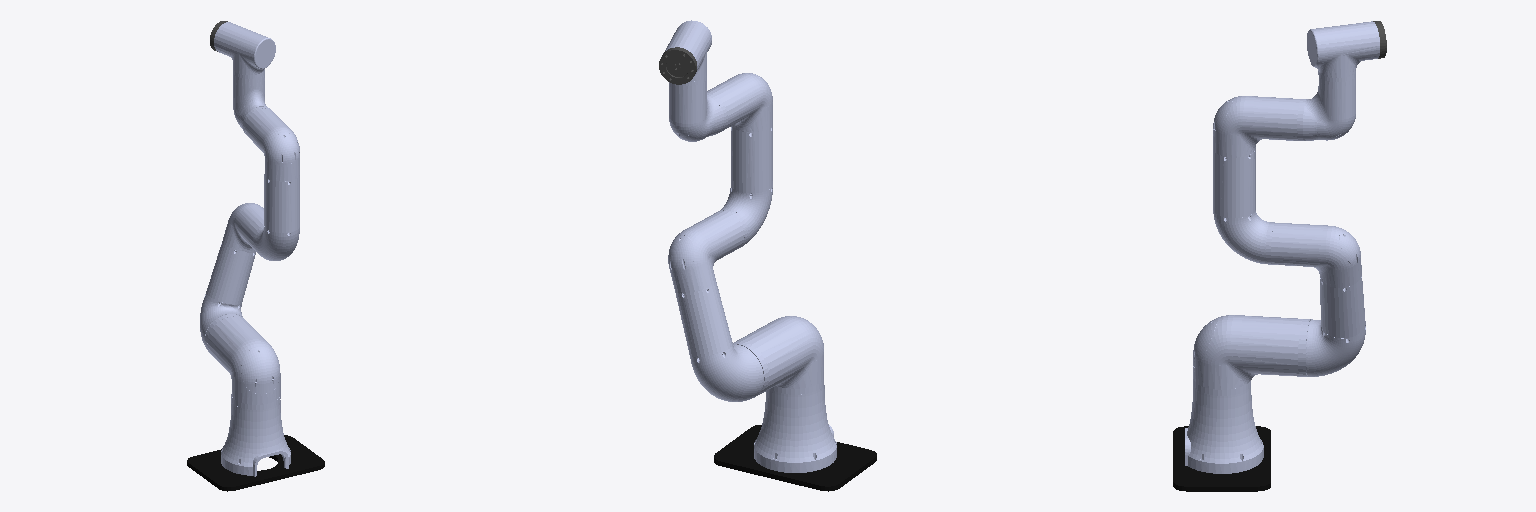
URDF robot description (robot):
<?xml version="1.0" encoding="utf-8"?>
<!-- This URDF was automatically created by SolidWorks to URDF Exporter! Originally created by [author] ([email redacted]) 
     Commit Version: 1.5.1-0-g916b5db  Build Version: 1.5.7152.31018
     For more information, please see http://wiki.ros.org/sw_urdf_exporter -->
<robot
  name="robot">
  <link
    name="base_link">
    <inertial>
      <origin
        xyz="1.21320825855915E-17 -8.65073877803282E-20 0.006"
        rpy="0 0 0" />
      <mass
        value="0.699812398023691" />
      <inertia
        ixx="0.00319439358076906"
        ixy="-1.05879118406788E-19"
        ixz="-7.74183984731718E-21"
        iyy="0.00687705018768615"
        iyz="9.68378407216369E-19"
        izz="0.0100546482709026" />
    </inertial>
    <visual>
      <origin
        xyz="0 0 0"
        rpy="0 0 0" />
      <geometry>
        <mesh
          filename="package://robot/meshes/base_link.STL" />
      </geometry>
      <material
        name="">
        <color
          rgba="0.0980392156862745 0.0980392156862745 0.0980392156862745 1" />
      </material>
    </visual>
    <collision>
      <origin
        xyz="0 0 0"
        rpy="0 0 0" />
      <geometry>
        <mesh
          filename="package://robot/meshes/base_link.STL" />
      </geometry>
    </collision>
  </link>
  <link
    name="Link_0">
    <inertial>
      <origin
        xyz="1.45774148422336E-06 -0.00427622104434238 0.0788670597889417"
        rpy="0 0 0" />
      <mass
        value="0.88340905364341" />
      <inertia
        ixx="0.0037870391075153"
        ixy="-6.32343925976529E-08"
        ixz="5.11803228852615E-08"
        iyy="0.00407855138323904"
        iyz="-0.000191161132544313"
        izz="0.00446295424659251" />
    </inertial>
    <visual>
      <origin
        xyz="0 0 0"
        rpy="0 0 0" />
      <geometry>
        <mesh
          filename="package://robot/meshes/Link_0.STL" />
      </geometry>
      <material
        name="">
        <color
          rgba="0.792156862745098 0.819607843137255 0.933333333333333 1" />
      </material>
    </visual>
    <collision>
      <origin
        xyz="0 0 0"
        rpy="0 0 0" />
      <geometry>
        <mesh
          filename="package://robot/meshes/Link_0.STL" />
      </geometry>
    </collision>
  </link>
  <joint
    name="Joint_0"
    type="fixed">
    <origin
      xyz="0 0 0.012"
      rpy="0 0 3.1416" />
    <parent
      link="base_link" />
    <child
      link="Link_0" />
    <axis
      xyz="0 0 0" />
  </joint>
  <link
    name="Link_1">
    <inertial>
      <origin
        xyz="6.22184642160937E-05 -0.0650398405116139 0.0829876435373044"
        rpy="0 0 0" />
      <mass
        value="0.597465762898965" />
      <inertia
        ixx="0.00345999864180008"
        ixy="2.11239130676265E-06"
        ixz="-1.08552992986325E-06"
        iyy="0.0024416733218569"
        iyz="0.0005220262651637"
        izz="0.00326944956816068" />
    </inertial>
    <visual>
      <origin
        xyz="0 0 0"
        rpy="0 0 0" />
      <geometry>
        <mesh
          filename="package://robot/meshes/Link_1.STL" />
      </geometry>
      <material
        name="">
        <color
          rgba="0.792156862745098 0.819607843137255 0.933333333333333 1" />
      </material>
    </visual>
    <collision>
      <origin
        xyz="0 0 0"
        rpy="0 0 0" />
      <geometry>
        <mesh
          filename="package://robot/meshes/Link_1.STL" />
      </geometry>
    </collision>
  </link>
  <joint
    name="Joint_1"
    type="continuous">
    <origin
      xyz="0 0 0.18443"
      rpy="0 0 -0.13381" />
    <parent
      link="Link_0" />
    <child
      link="Link_1" />
    <axis
      xyz="0 0 1" />
    <limit
      lower="0"
      upper="0"
      effort="0"
      velocity="0" />
  </joint>
  <link
    name="Link_2">
    <inertial>
      <origin
        xyz="0.00134485274787528 -0.128717701017697 0.160867386542986"
        rpy="0 0 0" />
      <mass
        value="0.929159054625162" />
      <inertia
        ixx="0.00320823920259881"
        ixy="-1.35631231568004E-07"
        ixz="-3.85045874100545E-06"
        iyy="0.00265580306712729"
        iyz="-0.000100375628699397"
        izz="0.00266571607277529" />
    </inertial>
    <visual>
      <origin
        xyz="0 0 0"
        rpy="0 0 0" />
      <geometry>
        <mesh
          filename="package://robot/meshes/Link_2.STL" />
      </geometry>
      <material
        name="">
        <color
          rgba="0.792156862745098 0.819607843137255 0.933333333333333 1" />
      </material>
    </visual>
    <collision>
      <origin
        xyz="0 0 0"
        rpy="0 0 0" />
      <geometry>
        <mesh
          filename="package://robot/meshes/Link_2.STL" />
      </geometry>
    </collision>
  </link>
  <joint
    name="Joint_2"
    type="continuous">
    <origin
      xyz="0.00017522 -0.12162 0.095568"
      rpy="0.00045409 -0.30533 -6.9868E-05" />
    <parent
      link="Link_1" />
    <child
      link="Link_2" />
    <axis
      xyz="0.0014407 -1 0" />
    <limit
      lower="0"
      upper="0"
      effort="0"
      velocity="0" />
  </joint>
  <link
    name="Link_3">
    <inertial>
      <origin
        xyz="0.00120771076428626 0.0539172581071677 0.178976869308194"
        rpy="0 0 0" />
      <mass
        value="0.803150335900571" />
      <inertia
        ixx="0.00270458546599755"
        ixy="1.60745380689648E-06"
        ixz="-3.81500108563491E-06"
        iyy="0.00209383755862316"
        iyz="0.000131370312331567"
        izz="0.002184375360029" />
    </inertial>
    <visual>
      <origin
        xyz="0 0 0"
        rpy="0 0 0" />
      <geometry>
        <mesh
          filename="package://robot/meshes/Link_3.STL" />
      </geometry>
      <material
        name="">
        <color
          rgba="0.792156862745098 0.819607843137255 0.933333333333333 1" />
      </material>
    </visual>
    <collision>
      <origin
        xyz="0 0 0"
        rpy="0 0 0" />
      <geometry>
        <mesh
          filename="package://robot/meshes/Link_3.STL" />
      </geometry>
    </collision>
  </link>
  <joint
    name="Joint_3"
    type="continuous">
    <origin
      xyz="0.00222521674691062 0 0.309992013445751"
      rpy="-0.000434921820504719 0.293183077036062 -6.42165046319621E-05" />
    <parent
      link="Link_2" />
    <child
      link="Link_3" />
    <axis
      xyz="0.00144069687900125 -0.999998962195713 0" />
    <limit
      lower="0"
      upper="0"
      effort="0"
      velocity="0" />
  </joint>
  <link
    name="Link_4">
    <inertial>
      <origin
        xyz="0.000359208754147869 -0.0684998573002637 0.0366860909640123"
        rpy="0 0 0" />
      <mass
        value="0.286971915713618" />
      <inertia
        ixx="0.000828640635214267"
        ixy="1.35924993163465E-06"
        ixz="-2.2970662177991E-06"
        iyy="0.000726145495651607"
        iyz="0.000173192471972522"
        izz="0.000543678533337081" />
    </inertial>
    <visual>
      <origin
        xyz="0 0 0"
        rpy="0 0 0" />
      <geometry>
        <mesh
          filename="package://robot/meshes/Link_4.STL" />
      </geometry>
      <material
        name="">
        <color
          rgba="0.792156862745098 0.819607843137255 0.933333333333333 1" />
      </material>
    </visual>
    <collision>
      <origin
        xyz="0 0 0"
        rpy="0 0 0" />
      <geometry>
        <mesh
          filename="package://robot/meshes/Link_4.STL" />
      </geometry>
    </collision>
  </link>
  <joint
    name="Joint_4"
    type="continuous">
    <origin
      xyz="0.0023197 -0.065602 0.30999"
      rpy="0 0.004971 0" />
    <parent
      link="Link_3" />
    <child
      link="Link_4" />
    <axis
      xyz="0.0014407 -1 0" />
    <limit
      lower="0"
      upper="0"
      effort="0"
      velocity="0" />
  </joint>
  <link
    name="Link_5">
    <inertial>
      <origin
        xyz="0.00378239646695921 -0.00233701451342877 0.0601240679145671"
        rpy="0 0 0" />
      <mass
        value="0.285365755979253" />
      <inertia
        ixx="0.000630498937647437"
        ixy="0.000191144855822565"
        ixz="-1.04125912684127E-05"
        iyy="0.000771007929254481"
        iyz="6.90460062027828E-06"
        izz="0.000829828222358698" />
    </inertial>
    <visual>
      <origin
        xyz="0 0 0"
        rpy="0 0 0" />
      <geometry>
        <mesh
          filename="package://robot/meshes/Link_5.STL" />
      </geometry>
      <material
        name="">
        <color
          rgba="0.792156862745098 0.819607843137255 0.933333333333333 1" />
      </material>
    </visual>
    <collision>
      <origin
        xyz="0 0 0"
        rpy="0 0 0" />
      <geometry>
        <mesh
          filename="package://robot/meshes/Link_5.STL" />
      </geometry>
    </collision>
  </link>
  <joint
    name="Joint_5"
    type="continuous">
    <origin
      xyz="0.00100383603243955 -0.0856181626338182 0.122659101891894"
      rpy="-0.00365492551536334 -0.001006271156386 -0.534443961021636" />
    <parent
      link="Link_4" />
    <child
      link="Link_5" />
    <axis
      xyz="0.00717811853827576 1.0341503609013E-05 0.999974236921784" />
    <limit
      lower="0"
      upper="0"
      effort="0"
      velocity="0" />
  </joint>
  <link
    name="Link_6">
    <inertial>
      <origin
        xyz="0.04864 -2.7756E-17 -2.2204E-16"
        rpy="0 0 0" />
      <mass
        value="0.093174" />
      <inertia
        ixx="7.7434E-05"
        ixy="2.9646E-20"
        ixz="2.7423E-19"
        iyy="4.4544E-05"
        iyz="-4.5604E-08"
        izz="4.391E-05" />
    </inertial>
    <visual>
      <origin
        xyz="0 0 0"
        rpy="0 0 0" />
      <geometry>
        <mesh
          filename="package://robot/meshes/Link_6.STL" />
      </geometry>
      <material
        name="">
        <color
          rgba="0.34902 0.34902 0.34902 1" />
      </material>
    </visual>
    <collision>
      <origin
        xyz="0 0 0"
        rpy="0 0 0" />
      <geometry>
        <mesh
          filename="package://robot/meshes/Link_6.STL" />
      </geometry>
    </collision>
  </link>
  <joint
    name="Joint_6"
    type="continuous">
    <origin
      xyz="0.035368 -0.024347 0.068086"
      rpy="-2.9035 0.00588 -0.60944" />
    <parent
      link="Link_5" />
    <child
      link="Link_6" />
    <axis
      xyz="1 0 0" />
    <limit
      lower="0"
      upper="0"
      effort="0"
      velocity="0" />
  </joint>
</robot>

--- Facts derived from the render (not from the file) ---
Views: 3 orthographic renders of the robot side by side, from view 1: azimuth 30°, elevation 25°; view 2: azimuth 150°, elevation 25°; view 3: azimuth 270°, elevation 25°.
Robot: robot — 8 links, 7 joints (6 continuous, 1 fixed); root link base_link; default pose: all joints at 0.
Visible links, largest first — view 1: Link_3, Link_1, Link_2, Link_0, base_link, Link_5, Link_4; view 2: Link_2, Link_3, Link_0, Link_1, base_link, Link_4, Link_5, Link_6; view 3: Link_3, Link_2, Link_1, Link_0, Link_5, base_link, Link_4.
Boxes of the visible links, x1,y1,x2,y2 form: Link_3: (243,107,299,260); Link_1: (205,314,280,404); Link_2: (200,203,263,348); Link_0: (221,394,290,476); base_link: (187,435,324,491); Link_5: (214,22,275,74); Link_4: (233,70,266,130); Link_2: (668,209,763,401); Link_3: (707,73,772,246); Link_0: (754,379,836,472); Link_1: (733,316,823,394); base_link: (714,425,876,491); Link_4: (669,76,723,141); Link_5: (663,20,711,81); Link_6: (659,47,696,84); Link_3: (1213,96,1305,263); Link_2: (1266,222,1365,376); Link_1: (1193,315,1310,389); Link_0: (1185,379,1263,473); Link_5: (1307,21,1379,77); base_link: (1173,426,1270,491); Link_4: (1303,71,1355,140).
Size in the robot's own frame: 0.345 by 0.4791 by 1.13 metres.
8 mesh visuals loaded from 8 distinct referenced files (8 binary STL).